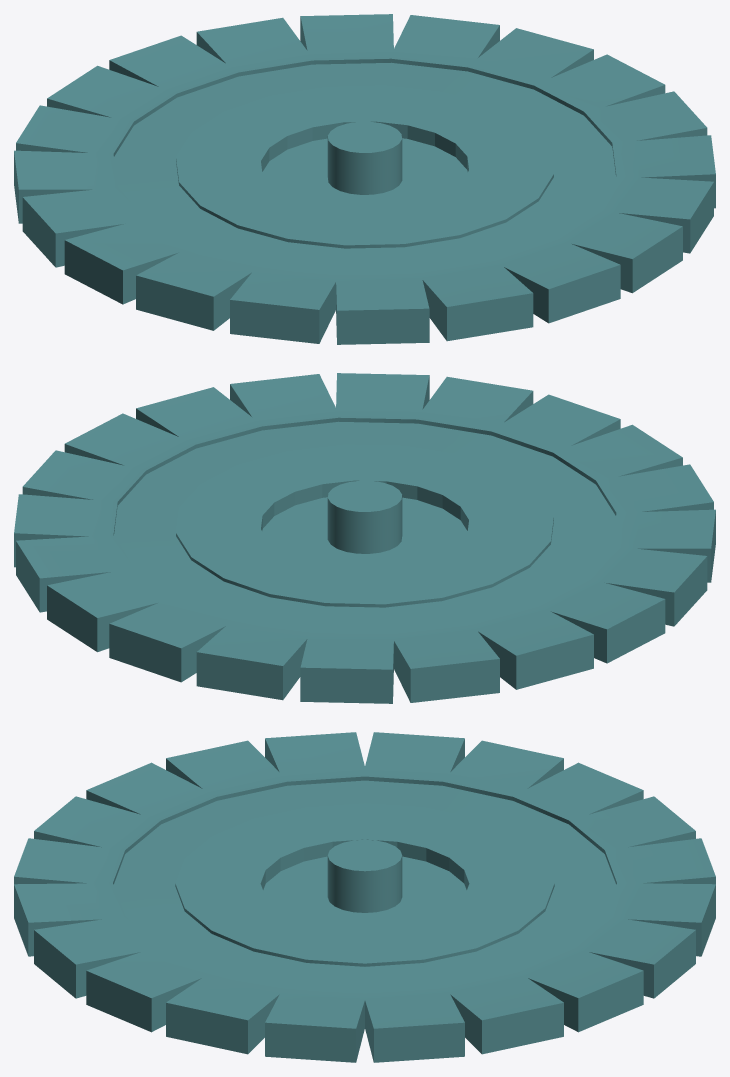
File: saw.fbx
The picture shows the model from 3 angles, top to bottom: view 1: azimuth 30°, elevation 25°; view 2: azimuth 150°, elevation 25°; view 3: azimuth 270°, elevation 25°; orthographic projection.
Parts seen in each view (by area): view 1: pCylinder1; view 2: pCylinder1; view 3: pCylinder1.
Boxes of the visible parts, left/top/right/bottom form: pCylinder1: left=14, top=14, right=715, bottom=344; pCylinder1: left=14, top=373, right=715, bottom=703; pCylinder1: left=14, top=732, right=715, bottom=1062.
Bounding box in the file's own units: 19.72 × 2.59 × 19.72.
